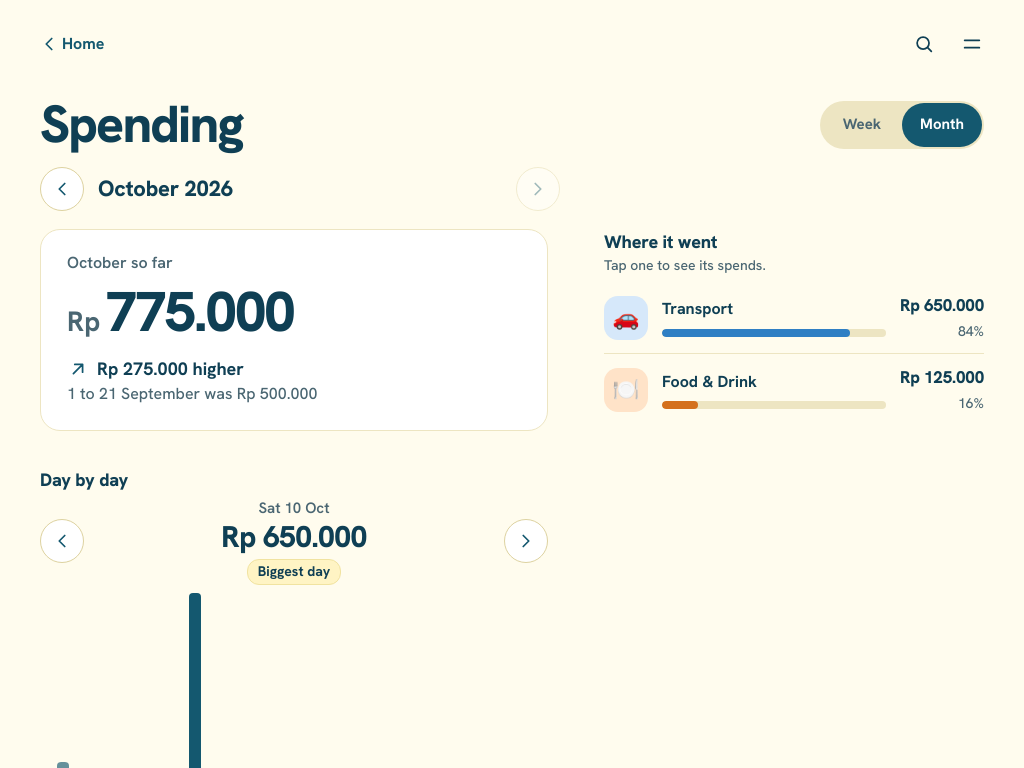
Test case: Spending › steps to the earlier month, whole this time, and back
The image size is (1024, 768).
Click the button named "Earlier month".
click(62, 189)  # box [40, 167, 84, 211]
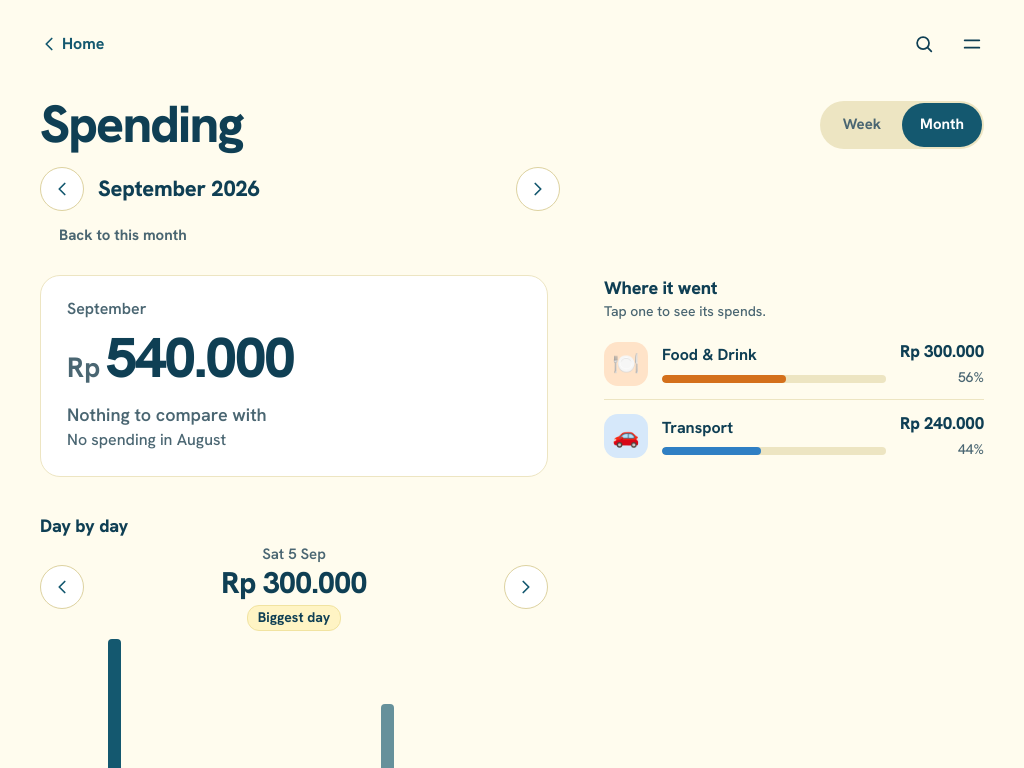
Check: the text "September 2026" is shown, box [98, 174, 260, 203]
Check: the text "September" is shown, box [67, 298, 146, 319]
Check: the text "540.000" is shown, box [106, 321, 294, 394]
Click the button "Back to this month".
click(123, 235)  # box [40, 213, 206, 257]
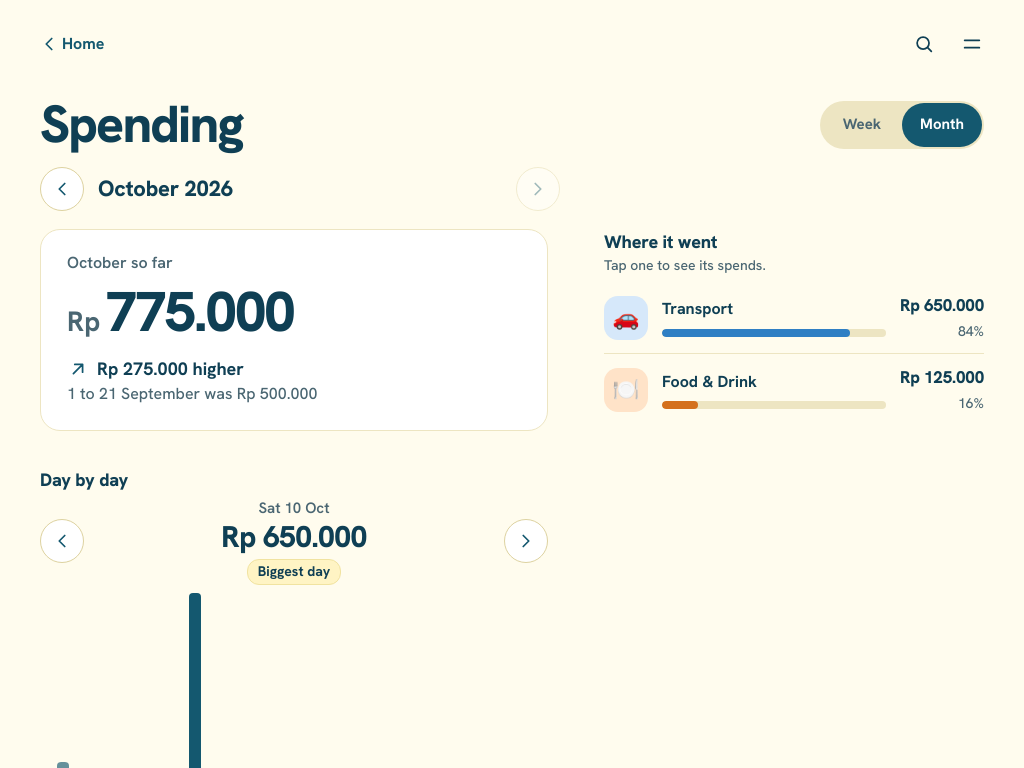
Check: the text "October so far" is shown, box [67, 252, 173, 273]
Check: the button "Back to this" is gone
# Stepping later into the current month lands on it too.
Click the button named "Earlier month".
click(62, 189)  # box [40, 167, 84, 211]
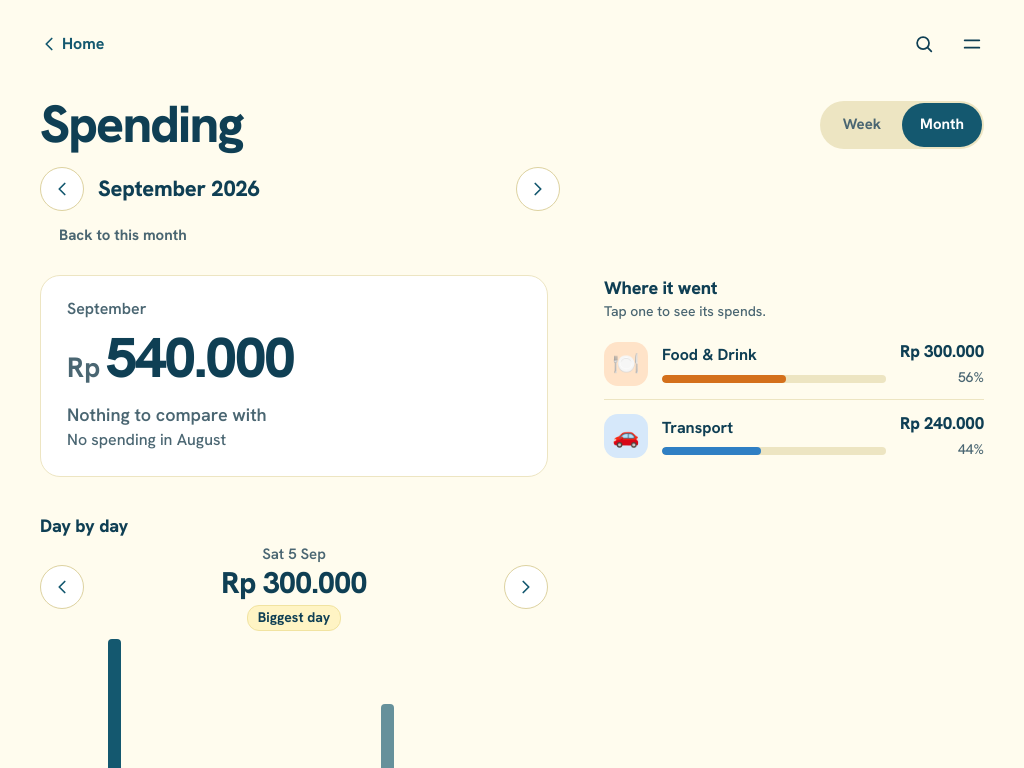
Click the button named "Later month".
click(538, 189)  # box [516, 167, 560, 211]
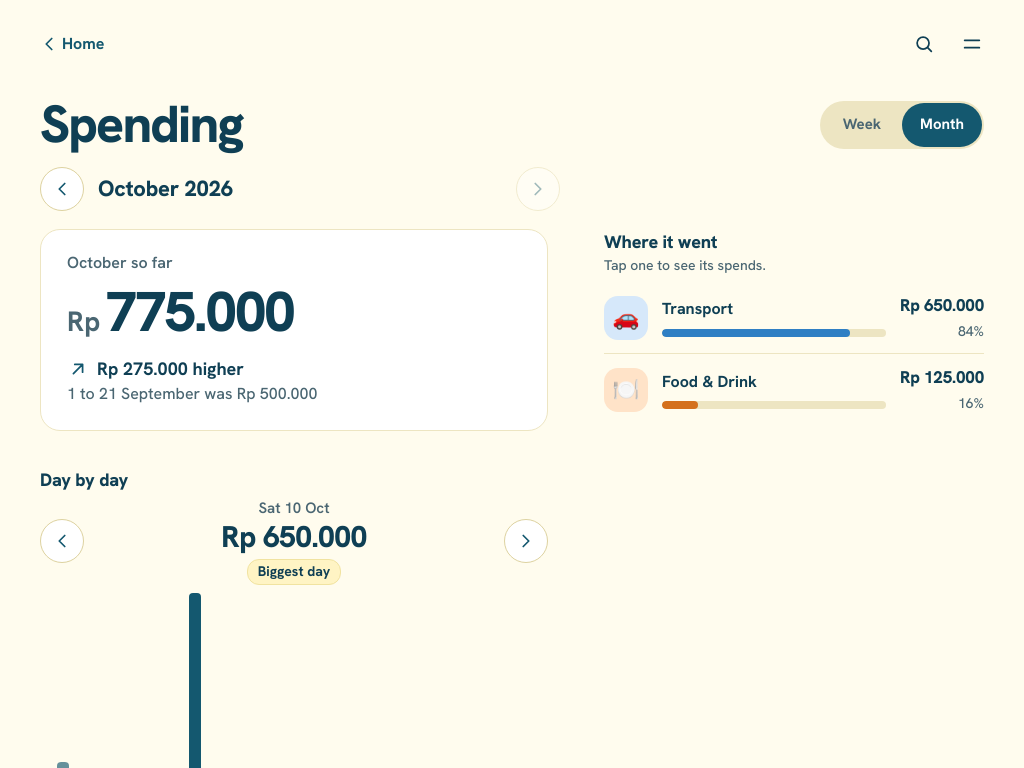
Check: the text "October so far" is shown, box [67, 252, 173, 273]
